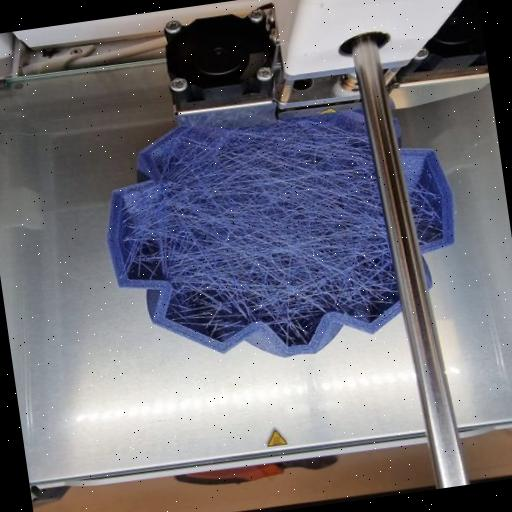stringing: (125, 102, 405, 356)
